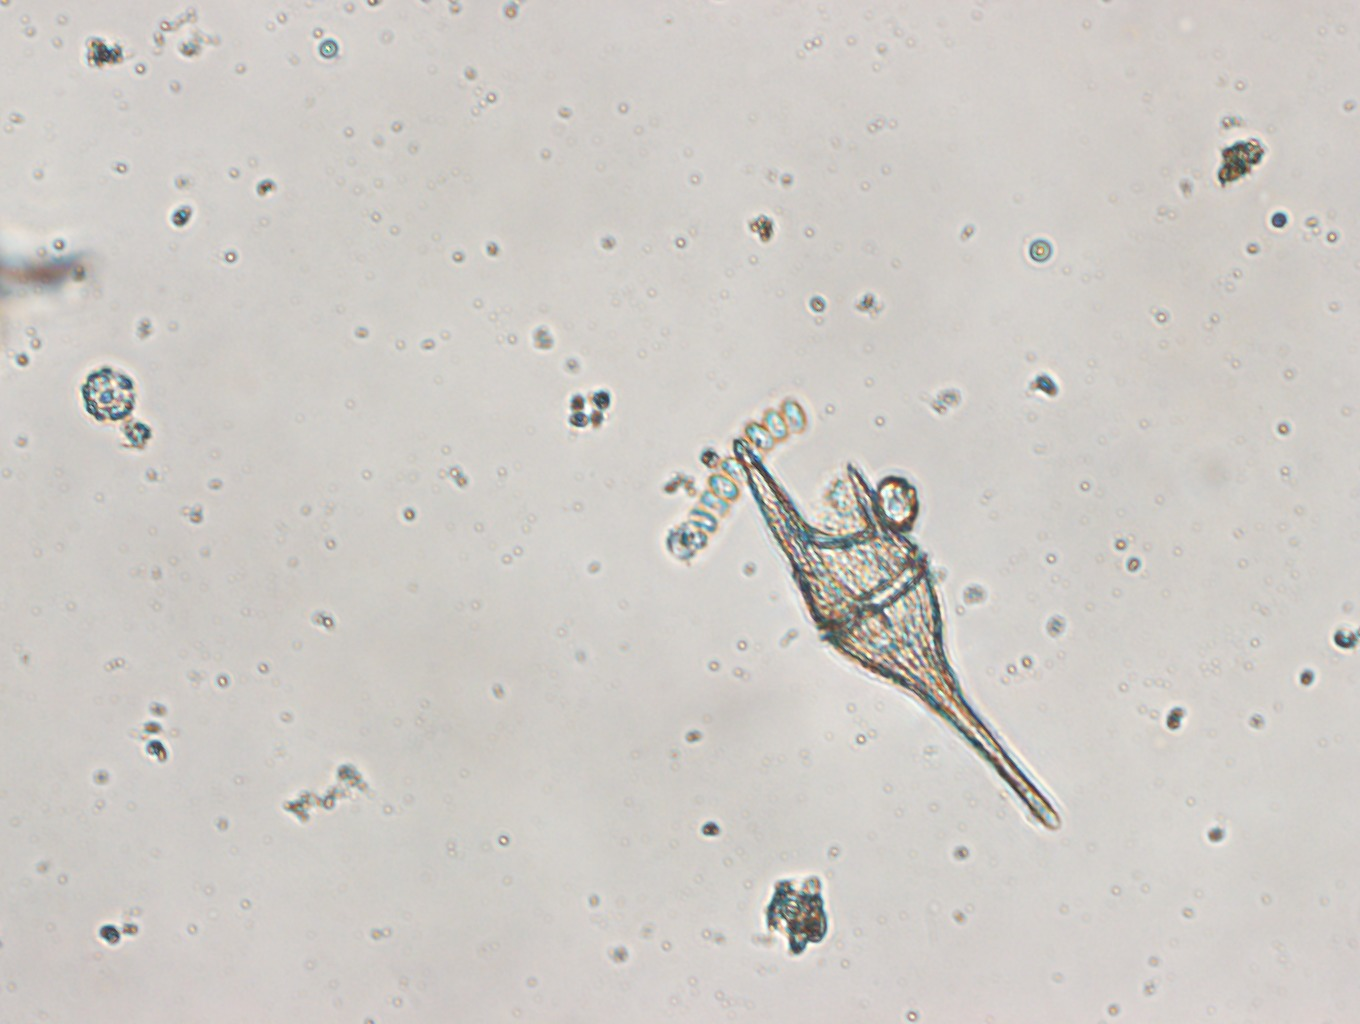ceratium furca: (727, 433, 1063, 834)
